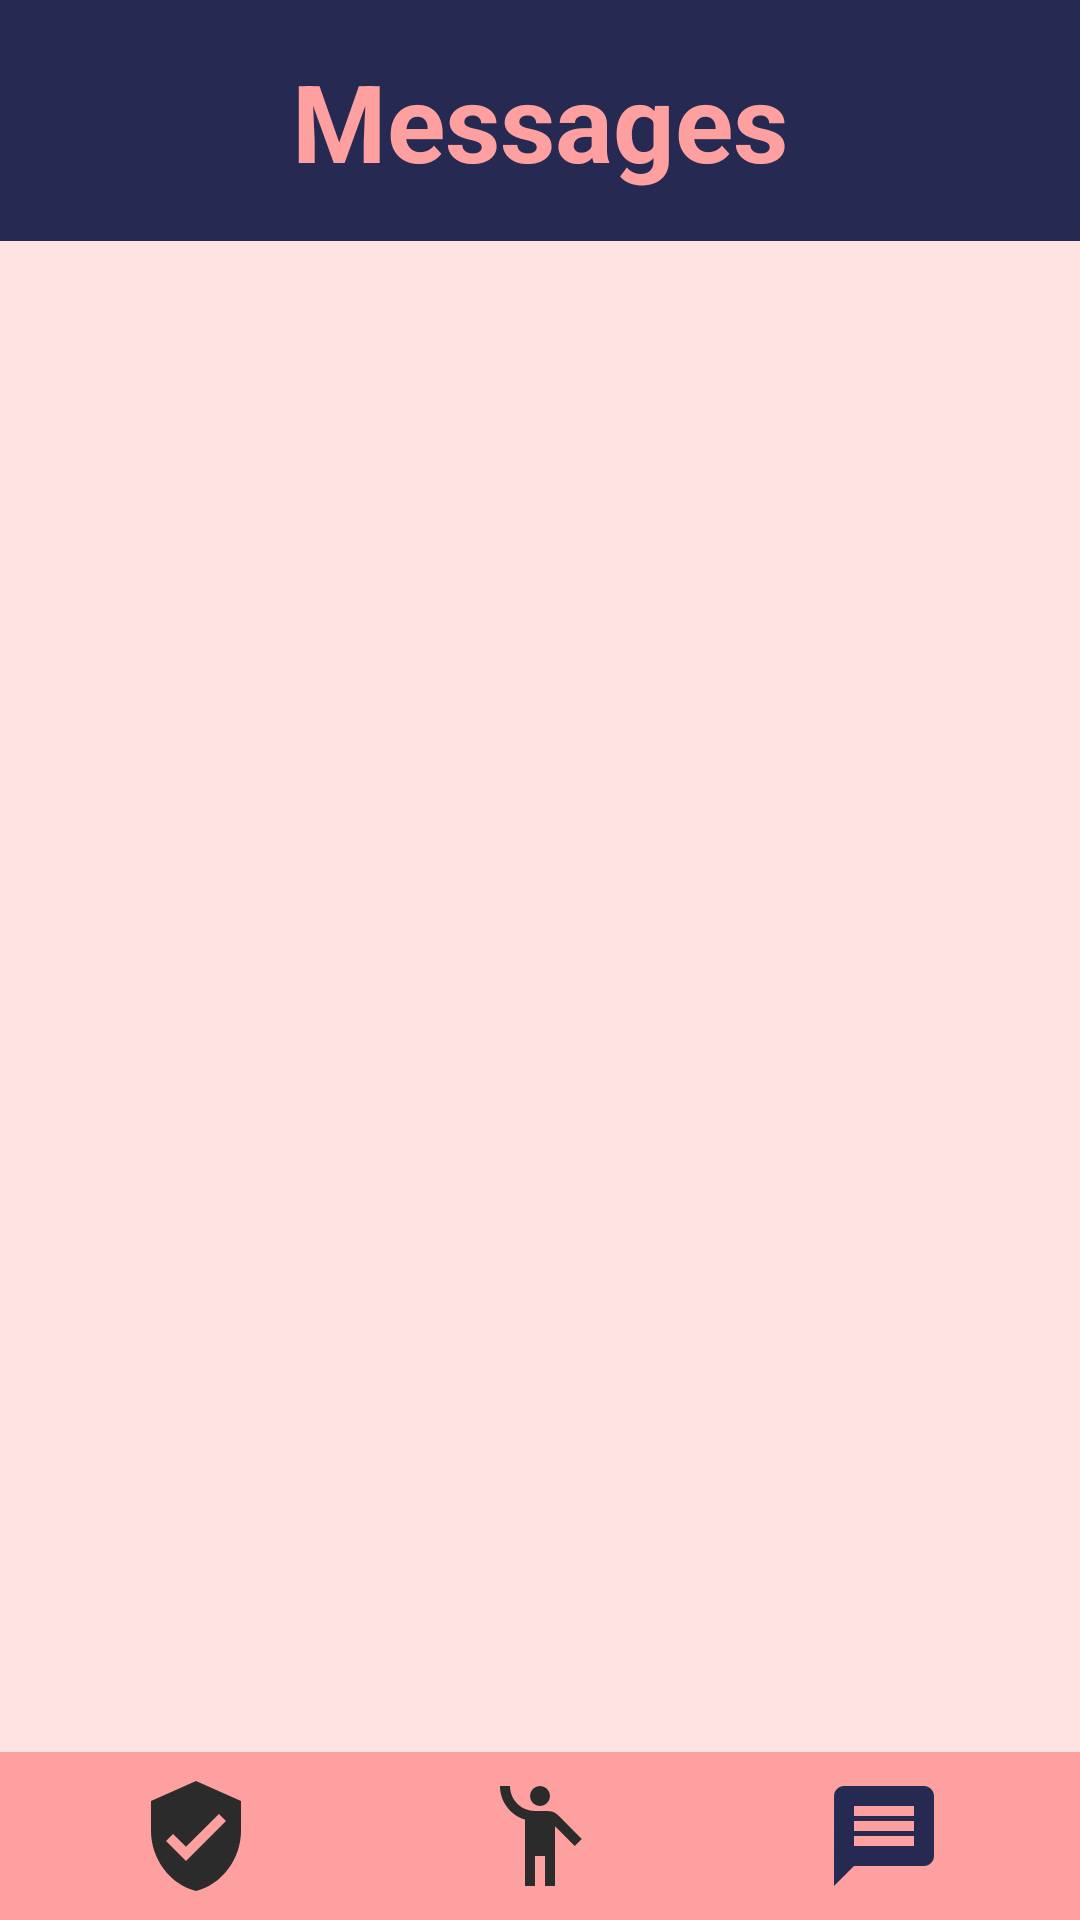

Where to tap for icons on this 1080x1920 app screen, as point (x, y):
emoji people: point (541, 1836)
message: point (884, 1836)
verified user: point (196, 1836)
